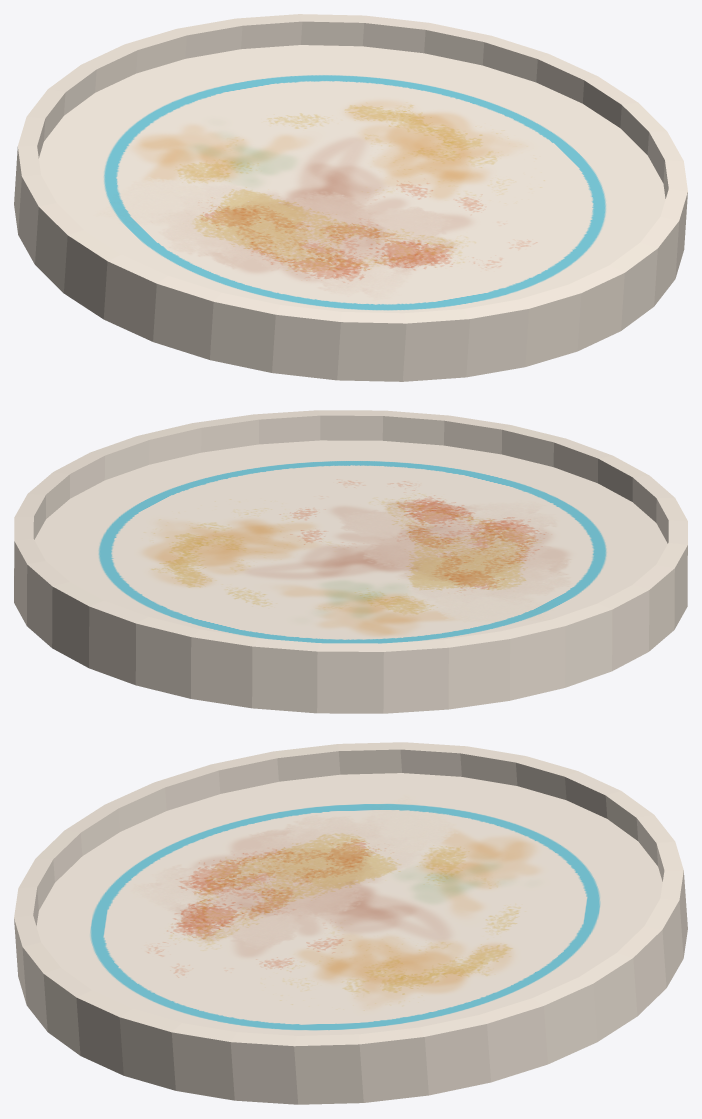
File: dishes.fbx
3 views of the same model, one above another, from view 1: azimuth 30°, elevation 25°; view 2: azimuth 150°, elevation 25°; view 3: azimuth 270°, elevation 25° (orthographic).
Visible parts, largest first — view 1: Cylinder; view 2: Cylinder; view 3: Cylinder.
Part boxes in pixels (x1,y1,x2,y2): Cylinder: [14, 14, 687, 381]; Cylinder: [14, 410, 687, 713]; Cylinder: [14, 742, 687, 1104].
Size of the model in its own units: 1114 by 213 by 1116.
